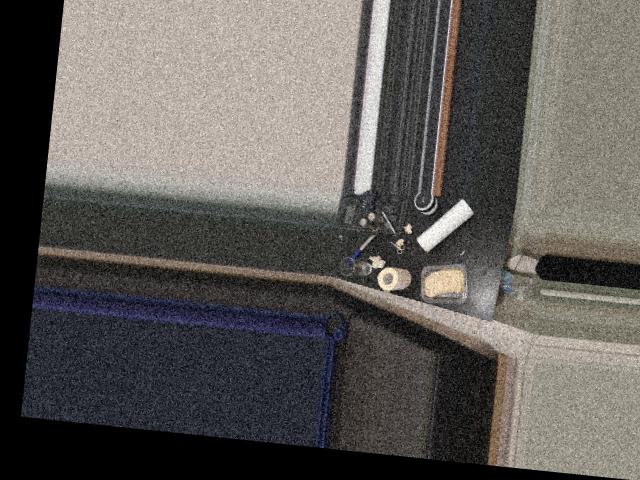cheese: (416, 258, 475, 308)
